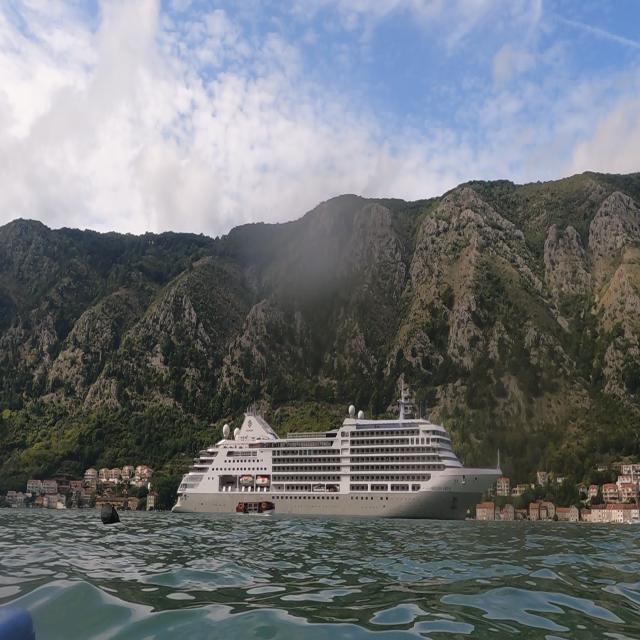boat: (170, 372, 504, 522)
buoy: (98, 497, 126, 532)
